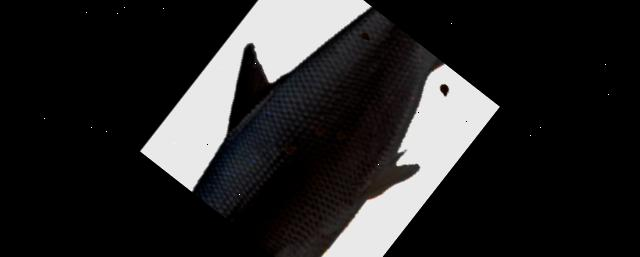Parasitic Disease: (193, 7, 443, 257), (193, 7, 443, 257)
